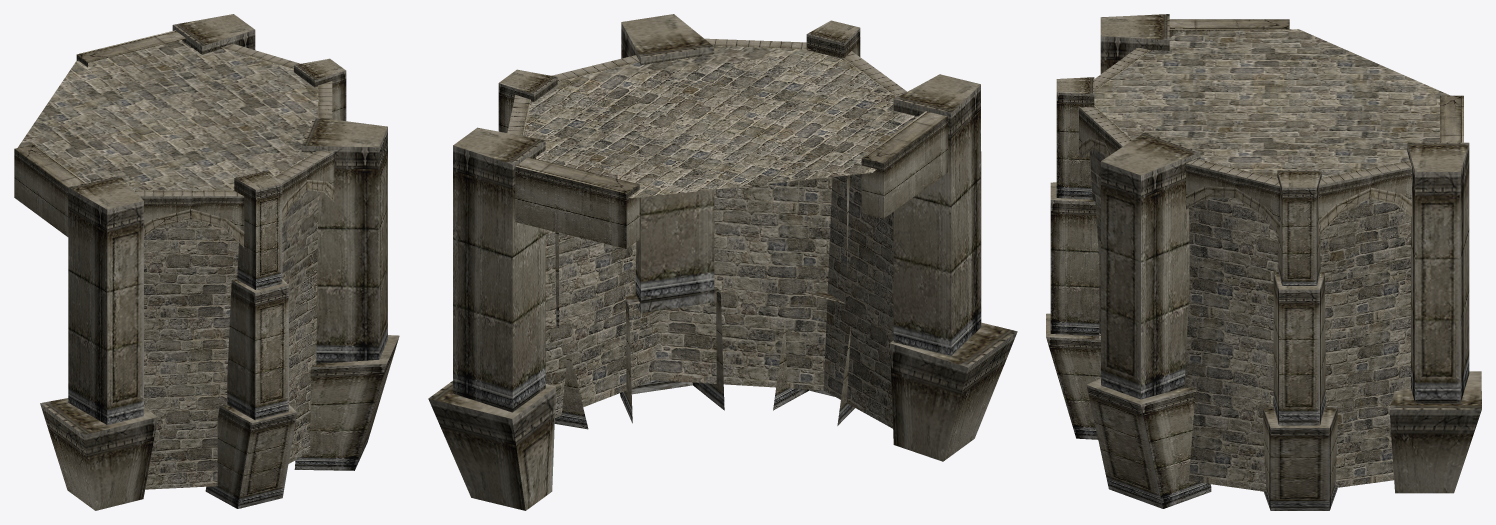
The model's file is SM_Plains_Ruin_BuildingLOD02.FBX.
The picture shows the model from 3 angles, left to right: view 1: azimuth 30°, elevation 25°; view 2: azimuth 150°, elevation 25°; view 3: azimuth 270°, elevation 25°; orthographic projection. The views are drawn at different scales.
Parts seen in each view (by area): view 1: SM_Plains_Ruin_BuildingLOD02a, SM_Plains_Ruin_BuildingLOD02b; view 2: SM_Plains_Ruin_BuildingLOD02a, SM_Plains_Ruin_BuildingLOD02b; view 3: SM_Plains_Ruin_BuildingLOD02a, SM_Plains_Ruin_BuildingLOD02b.
Boxes of the visible parts, bbox=[...] form: SM_Plains_Ruin_BuildingLOD02a: bbox=[14, 14, 399, 510]; SM_Plains_Ruin_BuildingLOD02b: bbox=[17, 40, 319, 489]; SM_Plains_Ruin_BuildingLOD02a: bbox=[428, 14, 1017, 510]; SM_Plains_Ruin_BuildingLOD02b: bbox=[523, 46, 917, 428]; SM_Plains_Ruin_BuildingLOD02a: bbox=[1046, 14, 1481, 510]; SM_Plains_Ruin_BuildingLOD02b: bbox=[1089, 29, 1449, 491].
Bounding box in the file's own units: 654 × 564 × 643.
